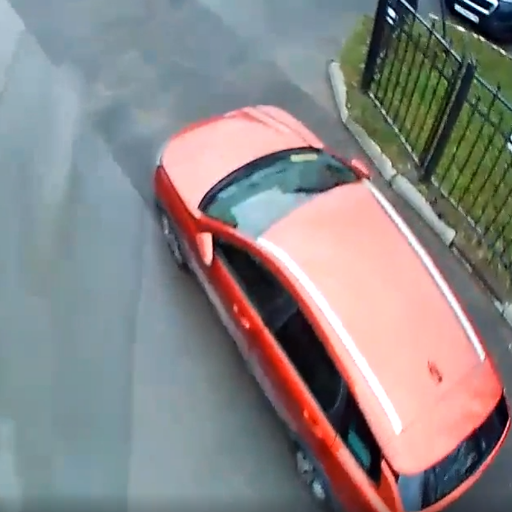Car: (147, 95, 507, 507)
